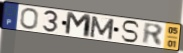3: (41, 10, 61, 34)
M: (64, 11, 93, 40), (88, 15, 116, 41)
O: (20, 7, 39, 31)
R: (142, 22, 164, 48)
S: (120, 20, 141, 44)
